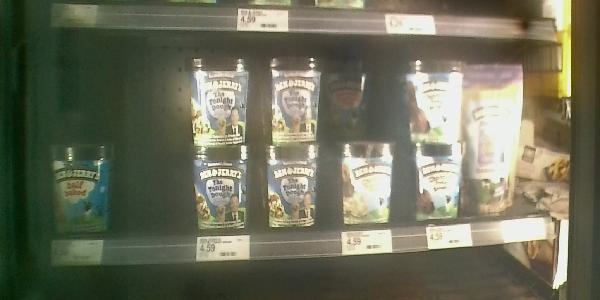icecream: (468, 53, 529, 217), (46, 142, 116, 234), (190, 49, 252, 145), (188, 147, 260, 229), (404, 58, 464, 143), (264, 144, 323, 227), (336, 142, 393, 226), (269, 51, 319, 145), (409, 144, 455, 232), (326, 63, 379, 136)
